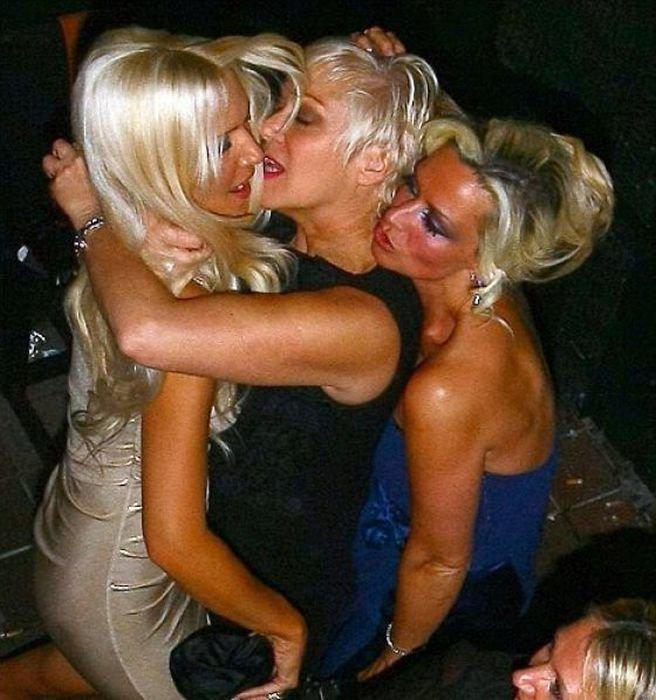Drunk: (256, 69, 359, 214), (373, 160, 482, 286)
